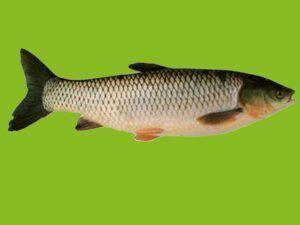Indian Carp: (12, 48, 298, 148)
